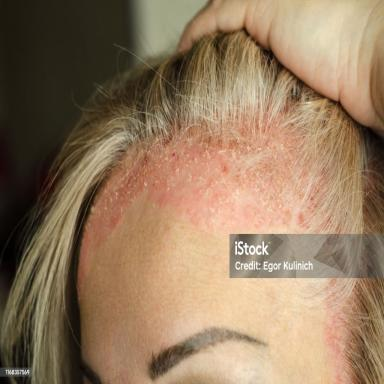Psoriasis: (77, 116, 330, 303), (325, 281, 354, 382)
